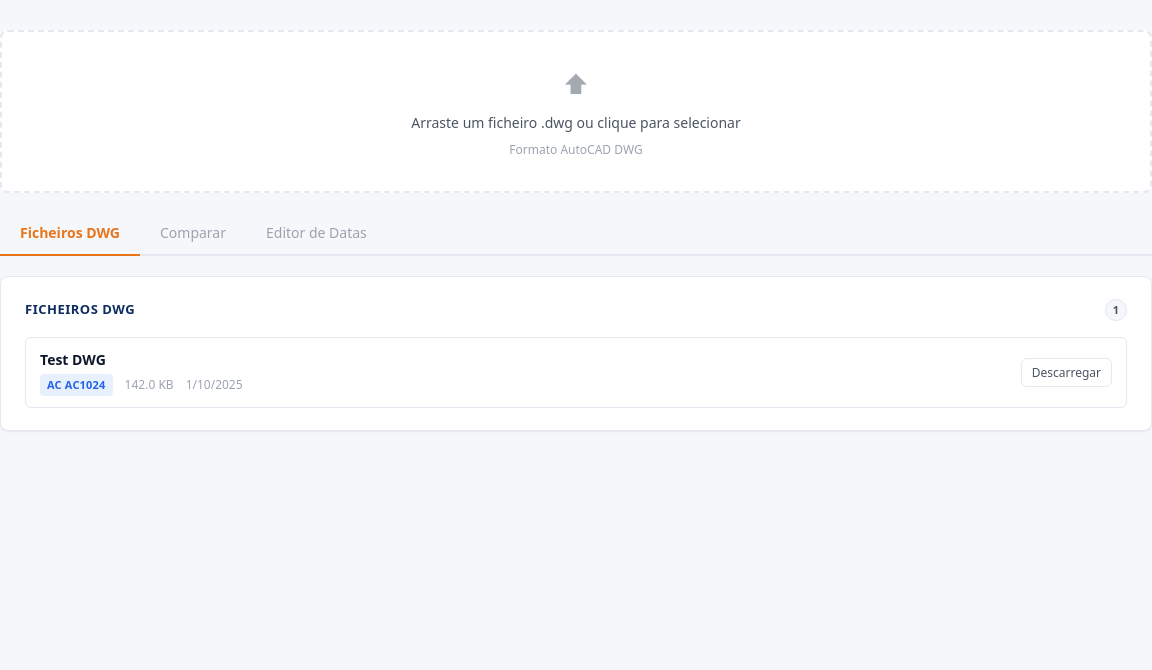
Test case: DwgViewerPane — error code 64 regression › shows "Preview unavailable" when WASM returns any non-zero error code
The image size is (1152, 670).
Click the element with class "eng-file-row": (576, 372) [25,337,1127,408]
(page scrolled)
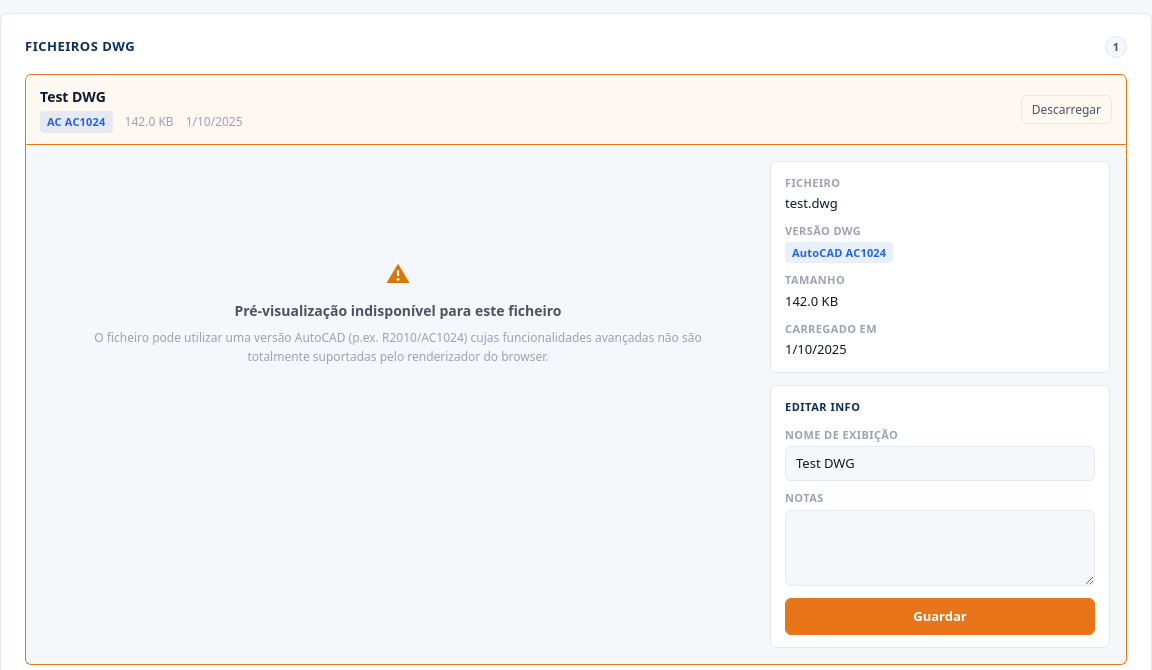
Now the element with class "eng-viewer-placeholder--error" is shown, box [42,161,754,461]
